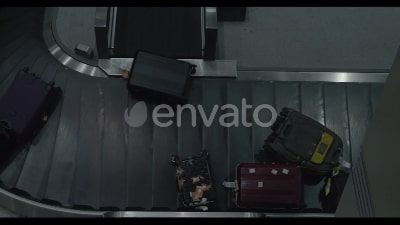baggage: (261, 105, 351, 174), (118, 47, 199, 106), (224, 160, 306, 211), (4, 65, 57, 141), (171, 150, 218, 213)
